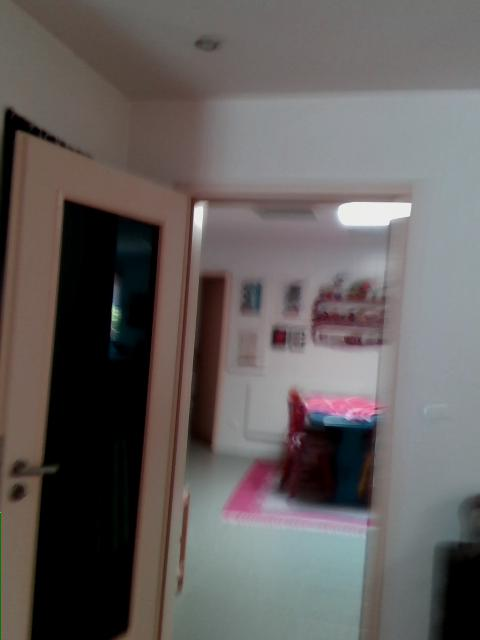open_door: (143, 185, 417, 639)
